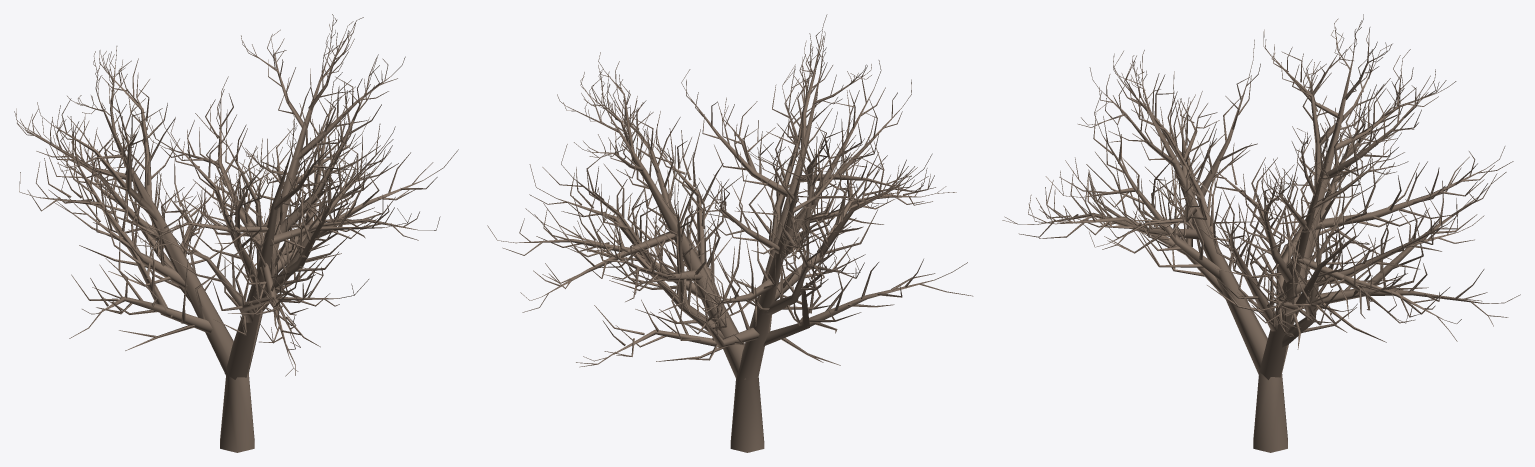
File: cognassier_hiver.glb
3 views of the same model, side by side, from view 1: azimuth 30°, elevation 25°; view 2: azimuth 150°, elevation 25°; view 3: azimuth 270°, elevation 25° (orthographic). The views are drawn at different scales.
Visible parts, largest first — view 1: Cognassier_Tronc; view 2: Cognassier_Tronc; view 3: Cognassier_Tronc.
Boxes of the visible parts, x1=… form: Cognassier_Tronc: x1=14, y1=14, x2=458, y2=452; Cognassier_Tronc: x1=487, y1=14, x2=973, y2=452; Cognassier_Tronc: x1=1002, y1=14, x2=1520, y2=452.
Size of the model in its own units: 2.87 by 2.48 by 3.03.
